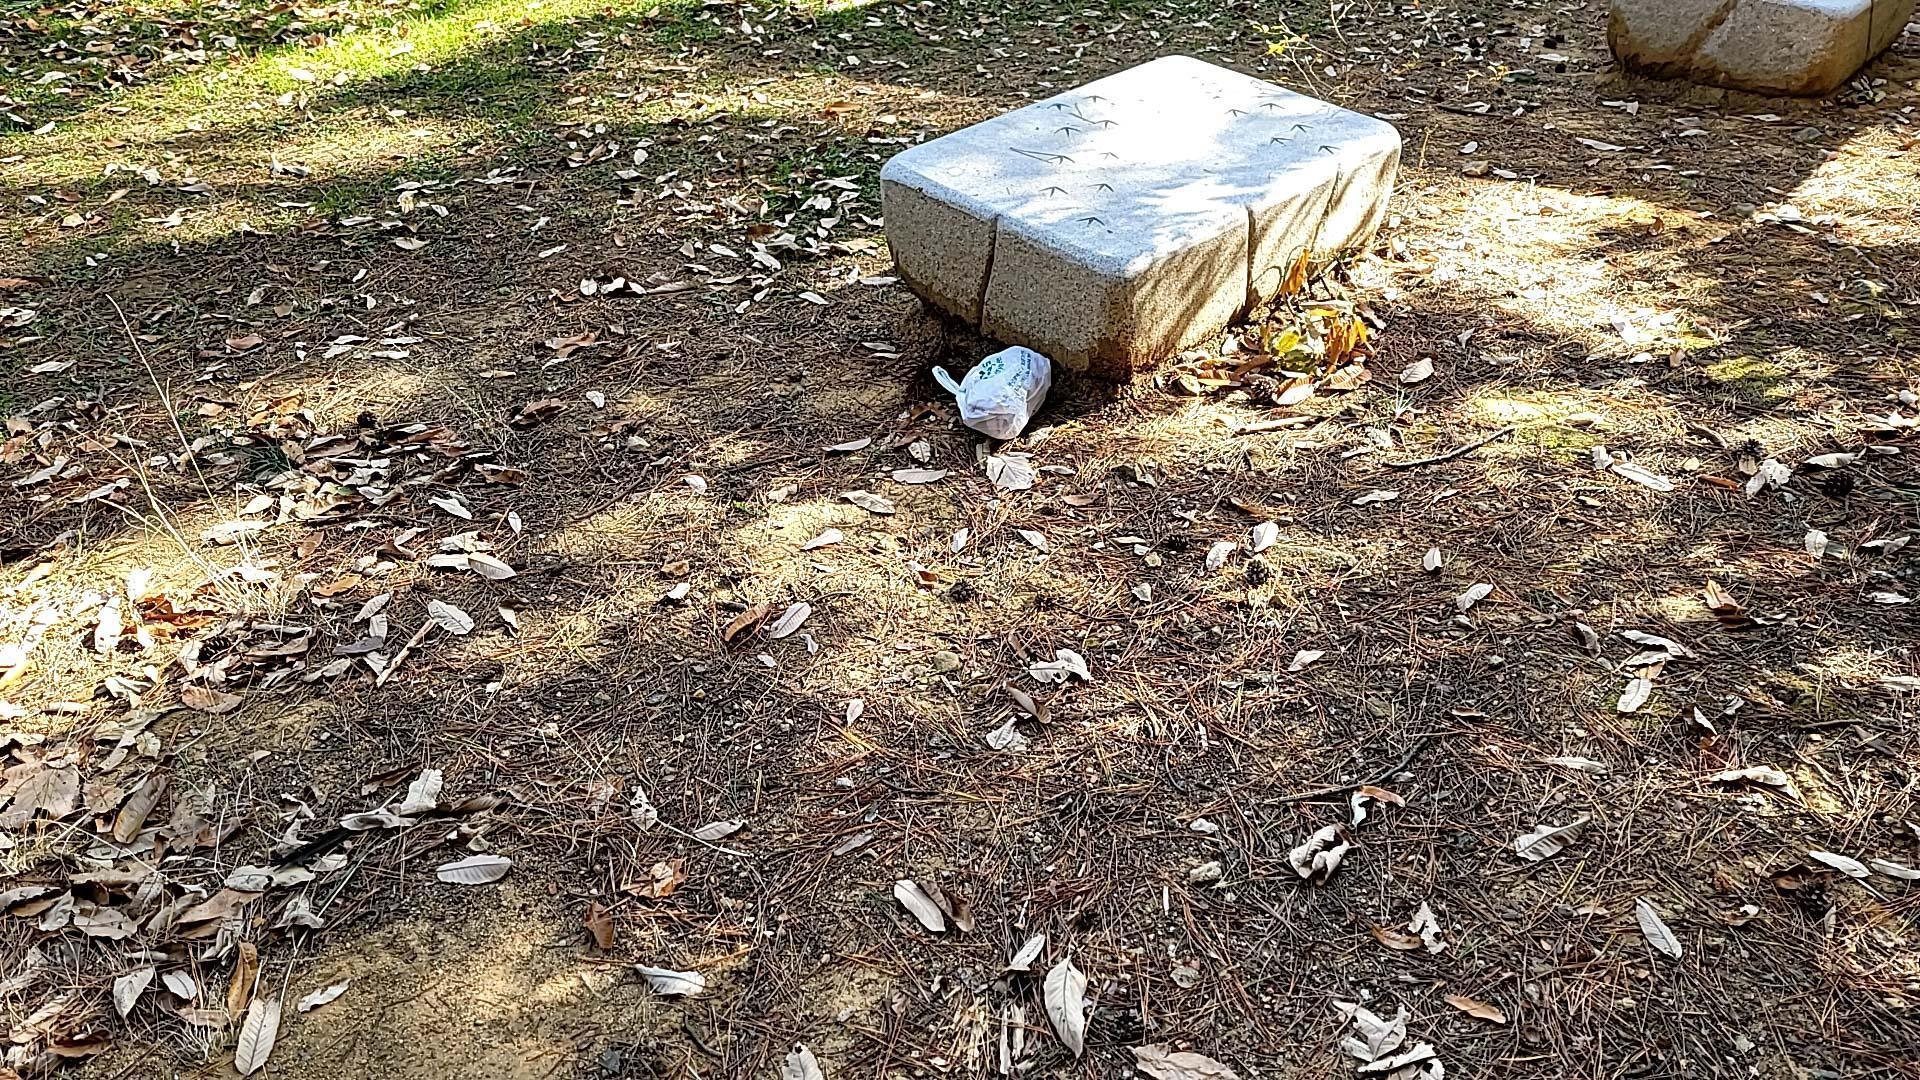white_bag: (916, 328, 1063, 458)
